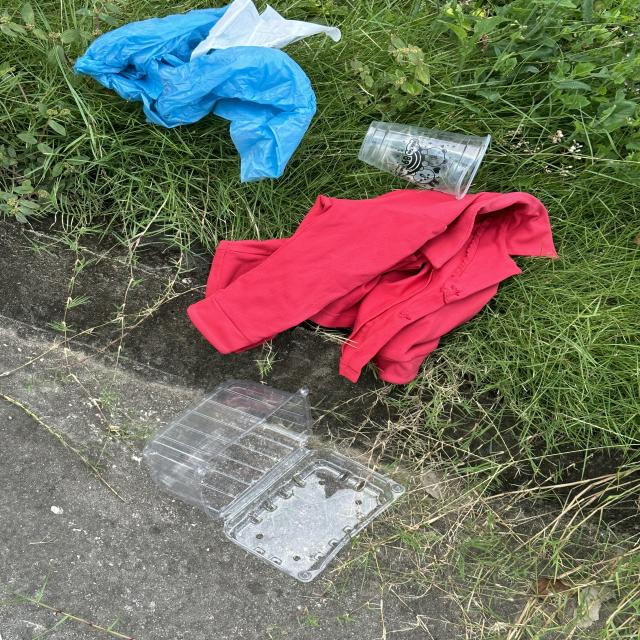bag: (72, 0, 345, 184)
clothes: (186, 189, 560, 383)
plastic glass: (358, 121, 490, 199)
plastic holder: (142, 379, 407, 583)
